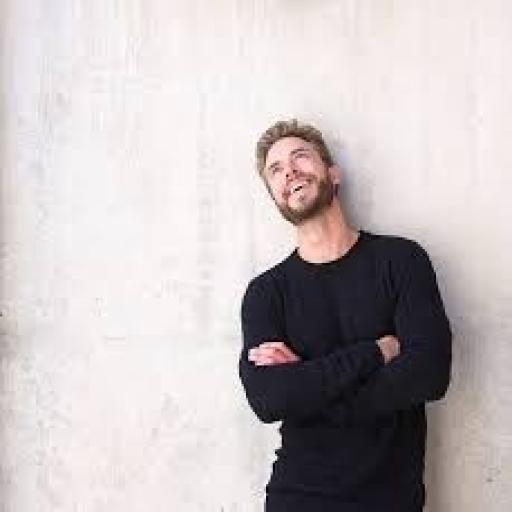laughing: (224, 107, 460, 510)
